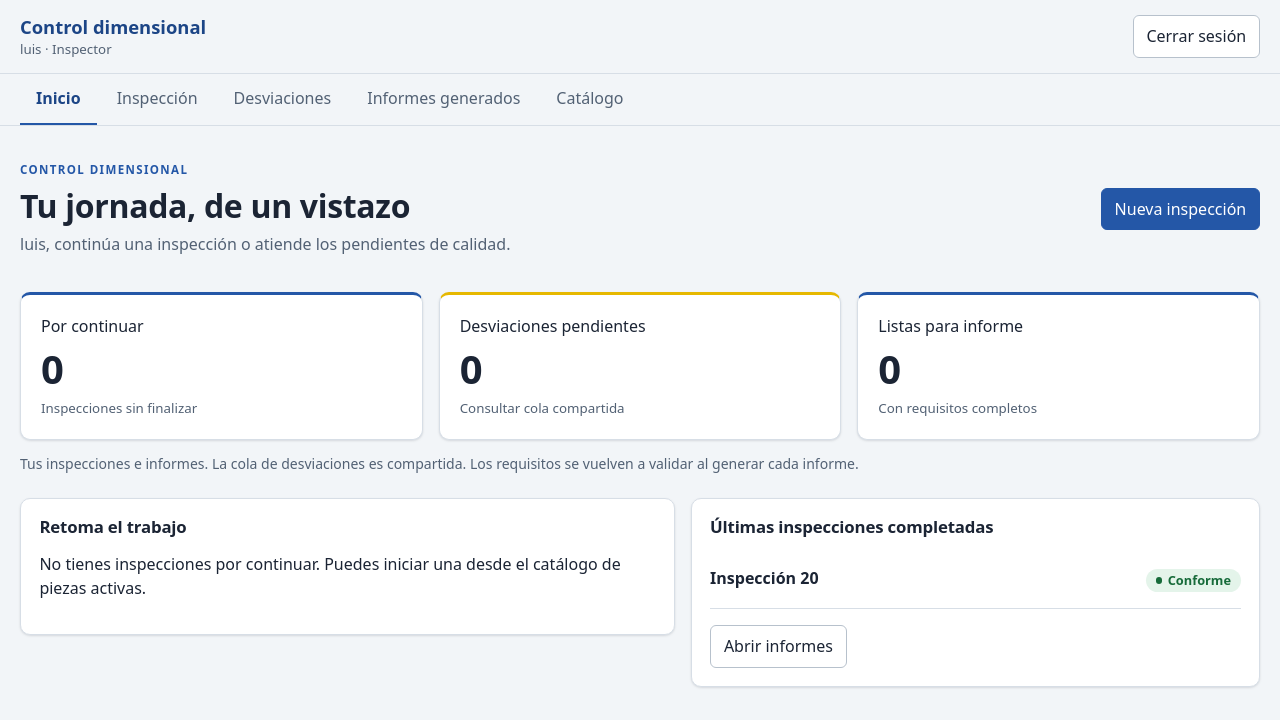
Test: frontend shell › removes inline reports for {"id":2,"username":"luis","role":"inspector","active":true} and keeps annulment admin-only
This screenshot has width=1280, height=720.
Click the tab "Inspección": x=157, y=100 [101,74,214,126]
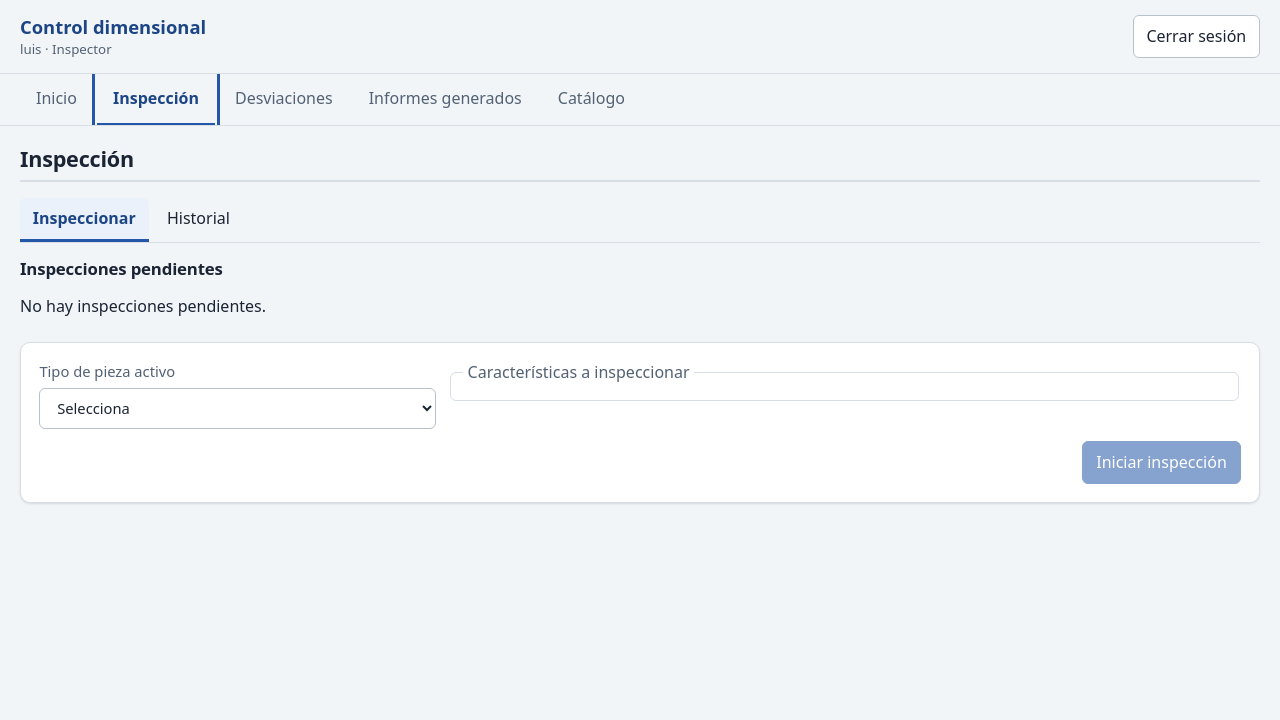
Click the tab "Historial": x=198, y=220 [154,198,243,242]
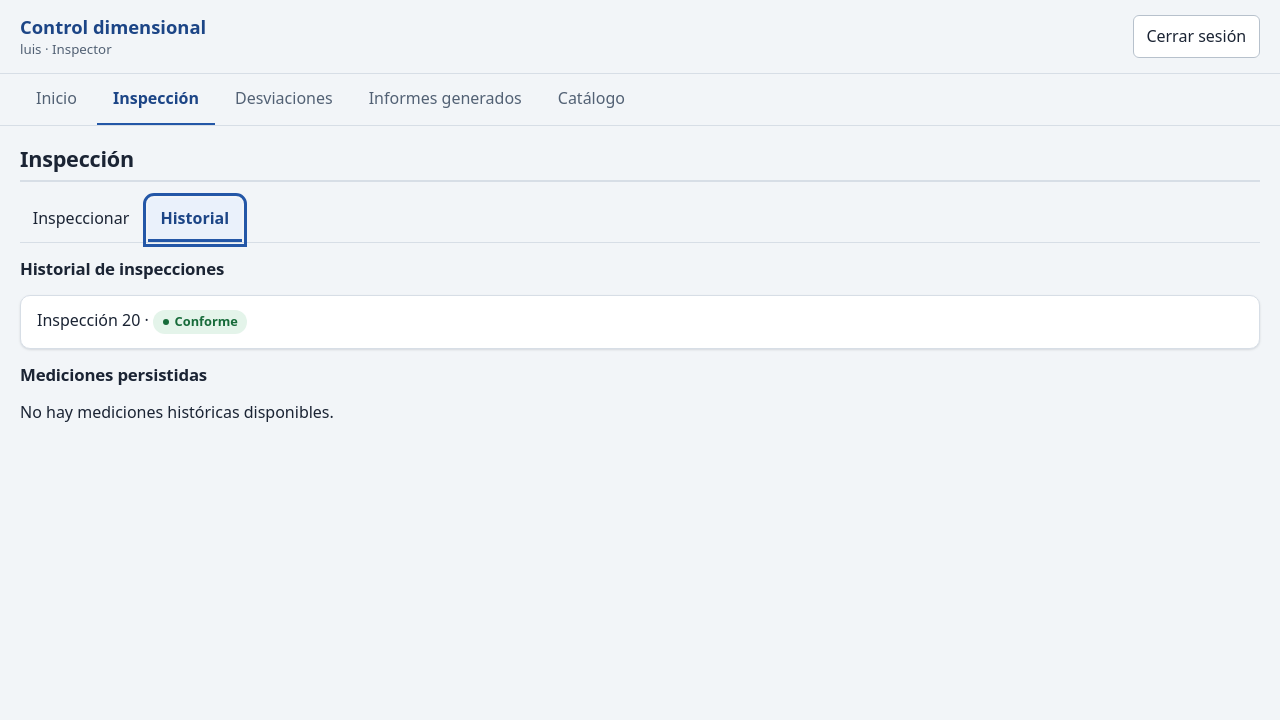
expect the list named "Inspecciones completadas" reads "Inspección 20 · Conforme": met, box [20,295,1260,348]
